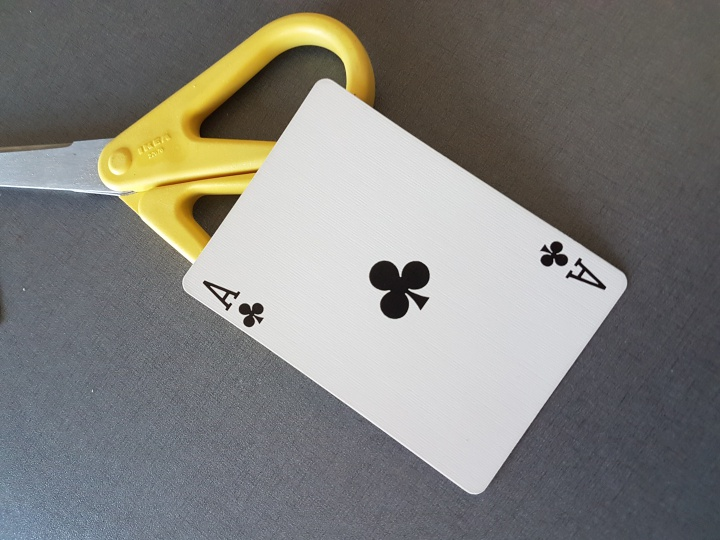ace: (182, 80, 637, 496)
